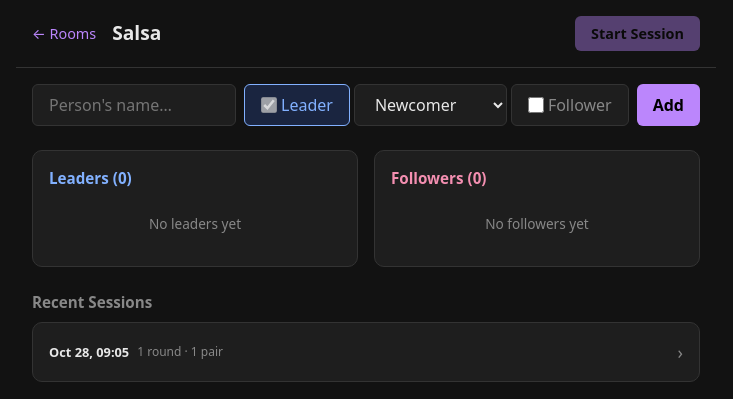
Room page › session history › navigates to session view when clicked
What coordinates should you click on to do the following:
click the link "Oct 28, 09:05 1 round · 1 pair ›"
I would click on:
 (89, 352)
Its box is x1=32 y1=322 x2=700 y2=382.
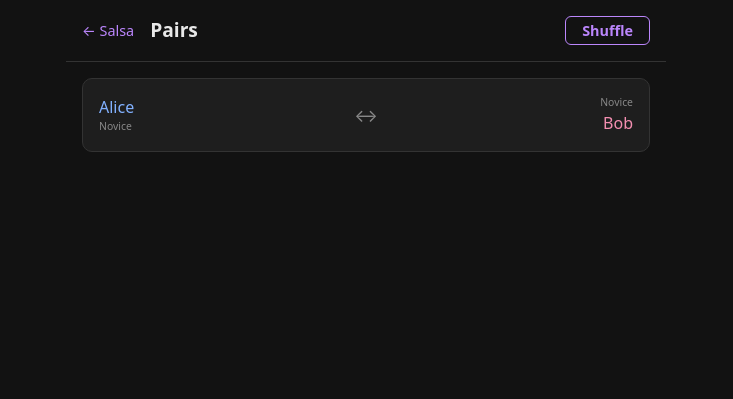
expect the heading "Pairs" is shown: met, box x1=150 y1=16 x2=198 y2=43
expect the text "Alice" is shown: met, box x1=99 y1=95 x2=134 y2=119
expect the text "Bob" is shown: met, box x1=603 y1=111 x2=633 y2=135
